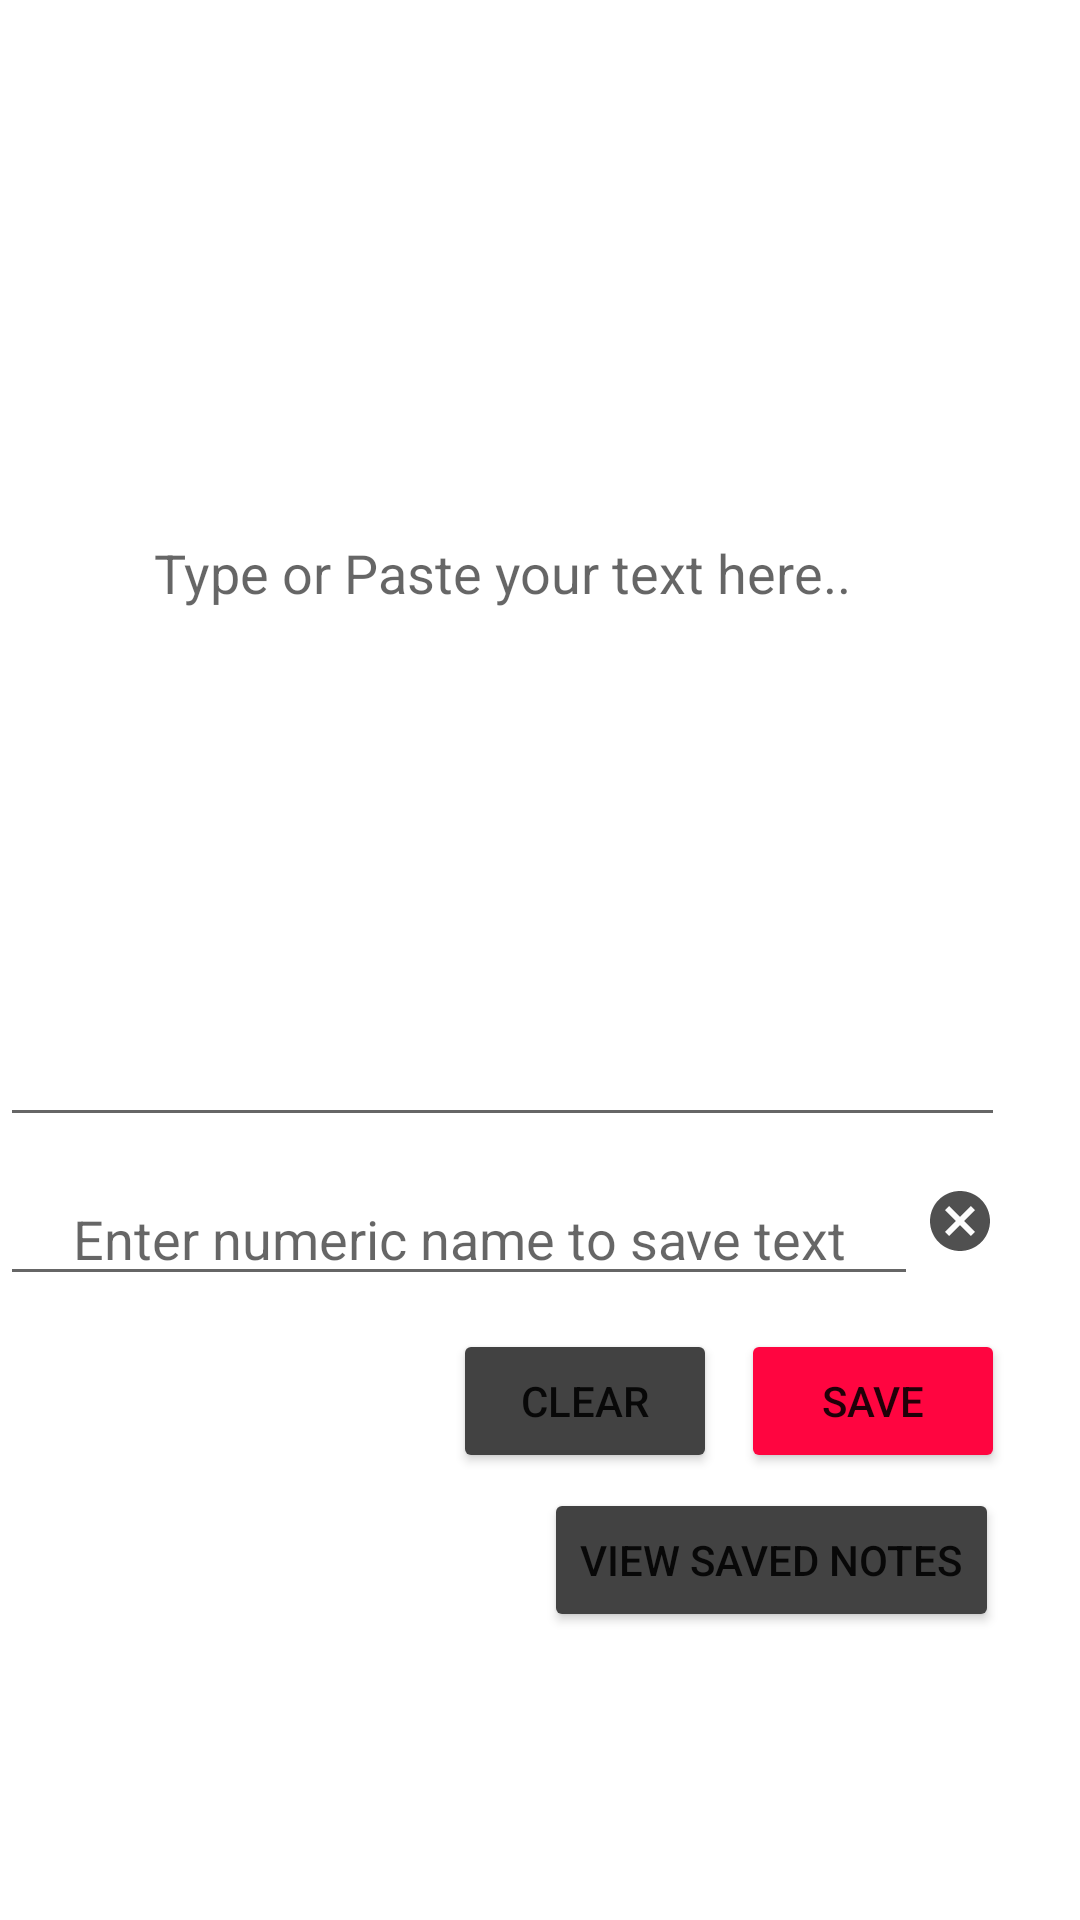

Icon bounding boxes for this 1080×1920 phone screenshot, format (x1, y1, x2, y2):
cancle: (930, 1191, 990, 1251)
